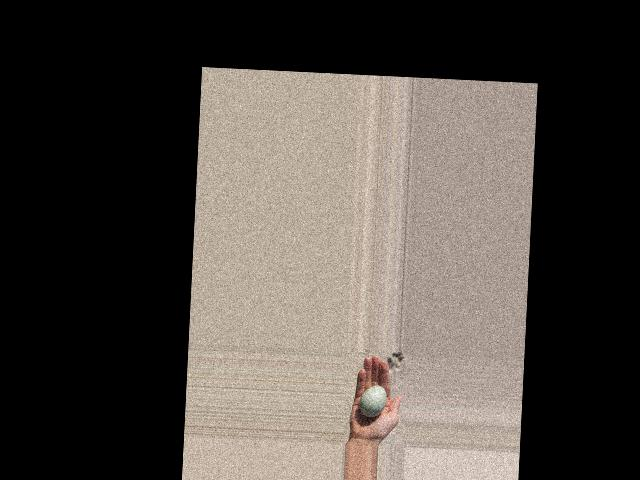egg: (358, 385, 386, 417)
